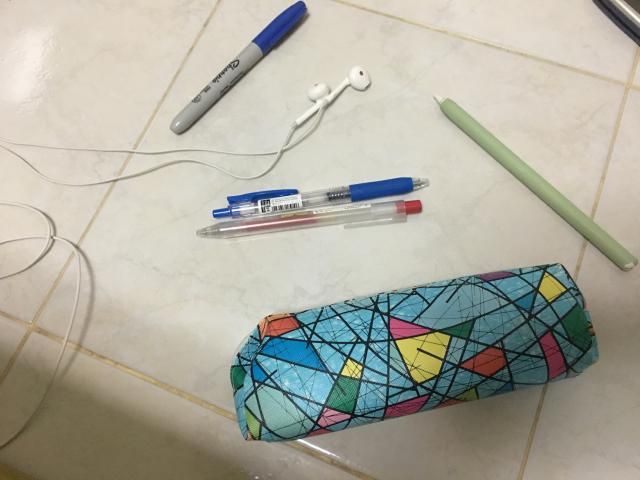Pen: (170, 1, 306, 134), (198, 178, 429, 239)
wire: (280, 66, 371, 152)
